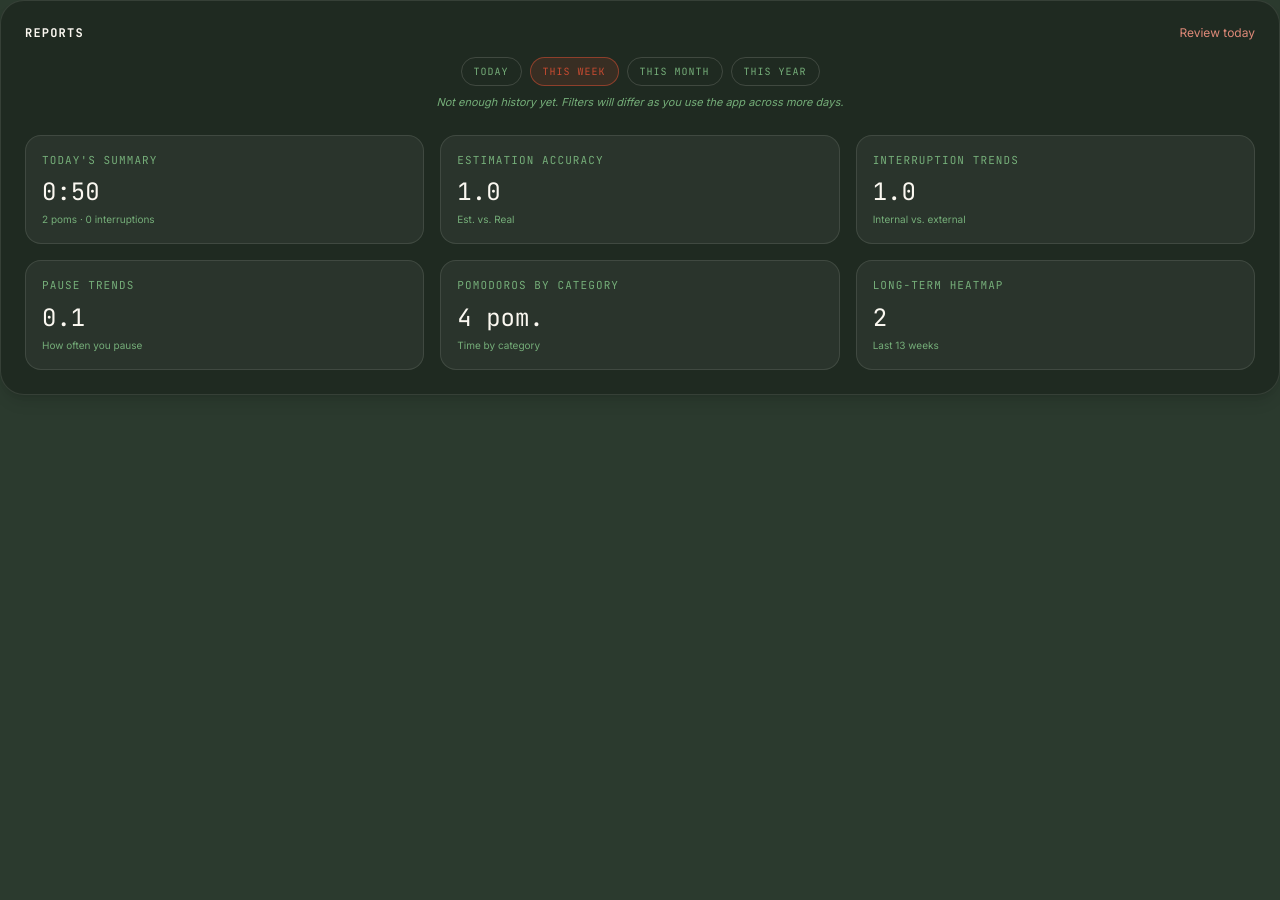
Reports › pages to the adjacent section with Previous/Next without passing back through the menu
This screenshot has width=1280, height=900.
Click the button "Today's Summary 0:50 2 poms · 0 interruptions" at (100, 160), box top-left (25, 134), bottom-right (424, 244)
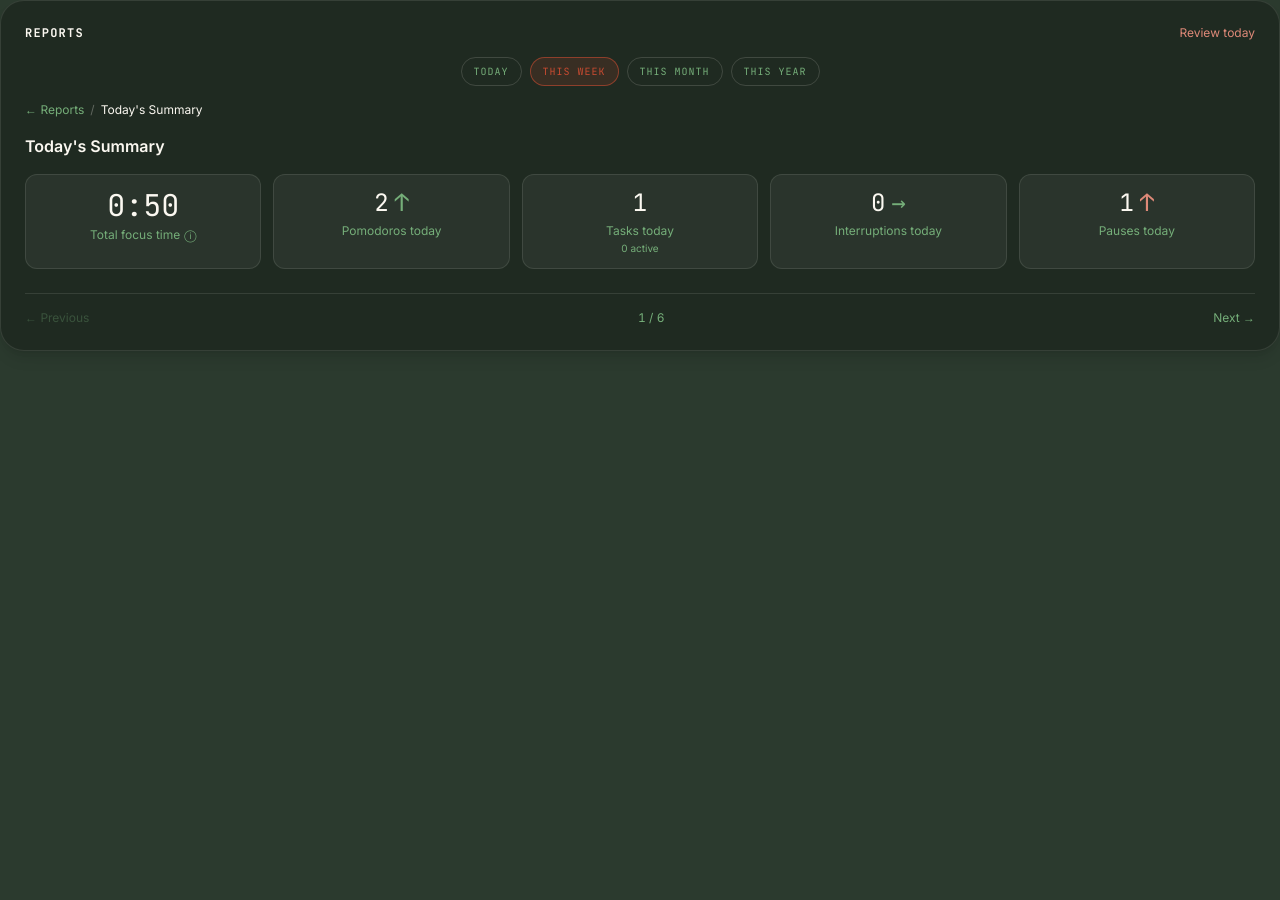
Expected: the heading "Today's Summary" is shown, top-left (25, 136), bottom-right (164, 156)
Expected: the button "← Previous" is disabled, top-left (25, 310), bottom-right (89, 326)
Click the button "Next →" at (1234, 318), box top-left (1213, 310), bottom-right (1255, 326)
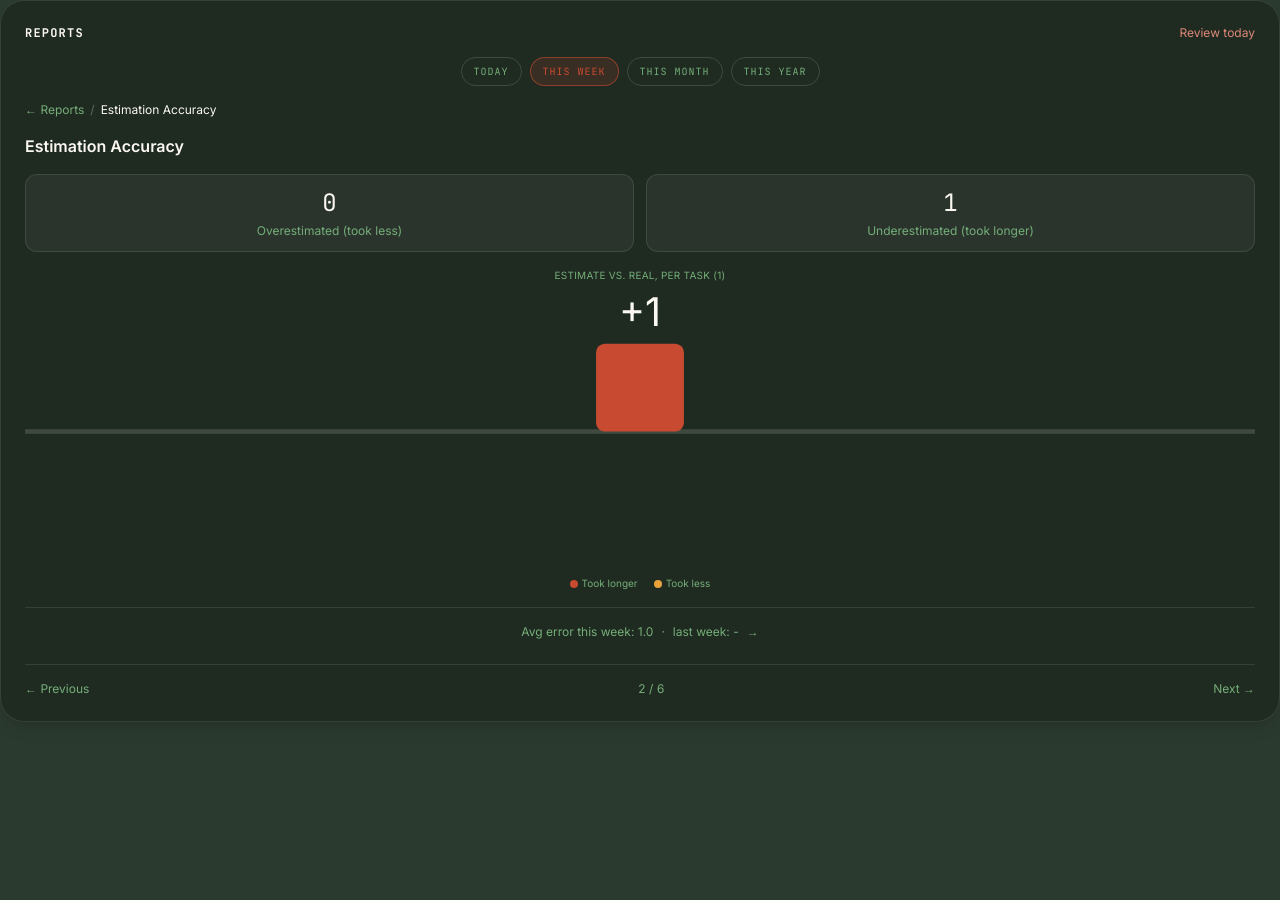
Expected: the heading "Estimation Accuracy" is shown, top-left (25, 136), bottom-right (184, 156)
Expected: the button "Today's Summary" is gone
